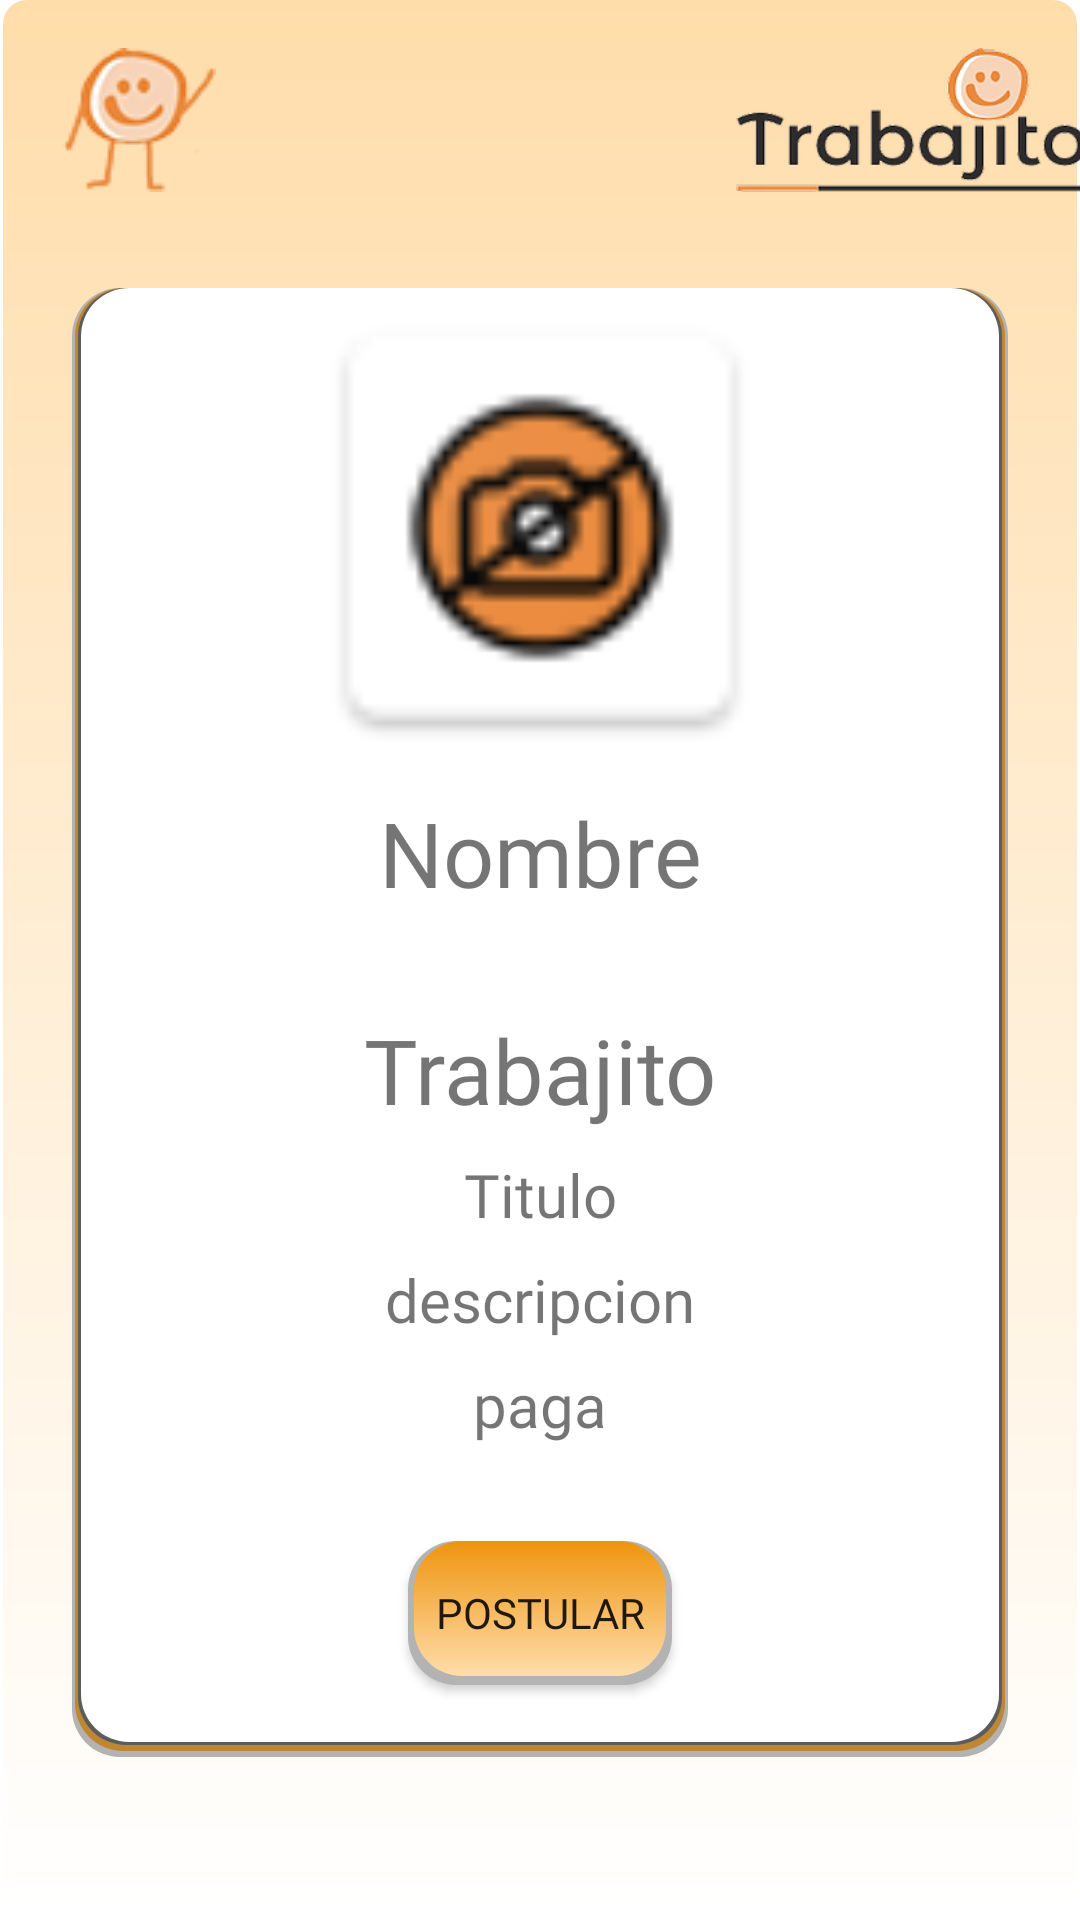

Locate icon controls on the screen. Image size 1080w x 1920h, boxes as (x1, y1, x2, y2).
logito: (65, 48, 216, 192)
